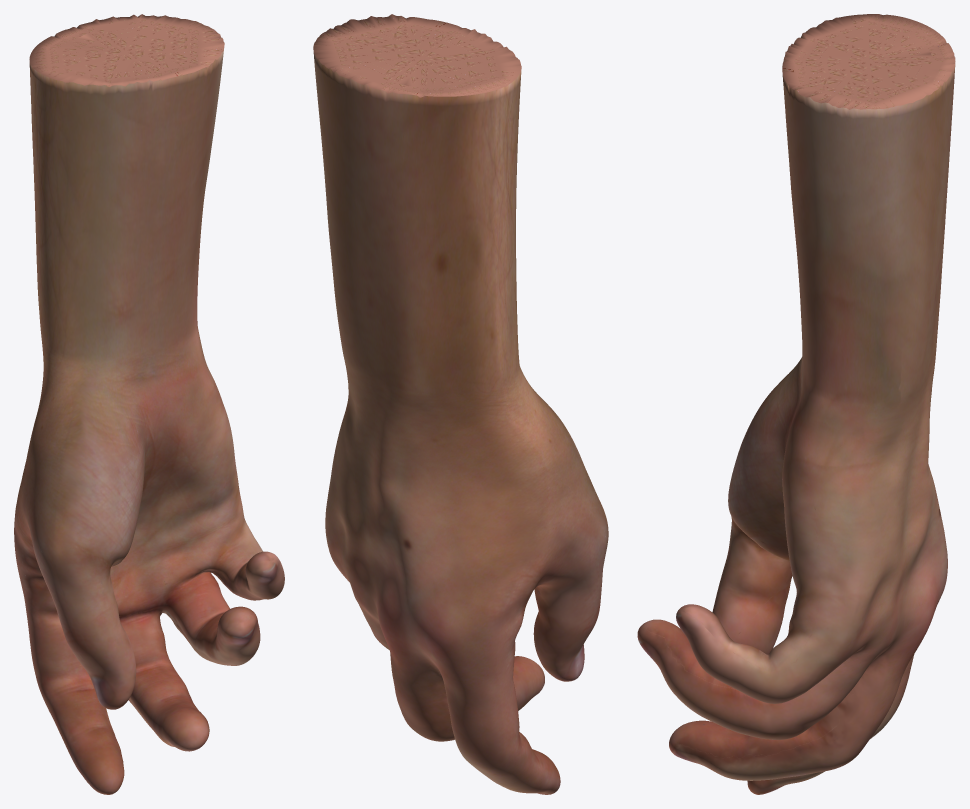
Rendered from libhand.glb.
The picture shows the model from 3 angles, left to right: view 1: azimuth 30°, elevation 25°; view 2: azimuth 150°, elevation 25°; view 3: azimuth 270°, elevation 25°; orthographic projection. The views are drawn at different scales.
Parts seen in each view (by area): view 1: LibHand_palm; view 2: LibHand_palm; view 3: LibHand_palm.
Boxes of the visible parts, x1,y1,x2,y2 form: LibHand_palm: (14, 14, 284, 794); LibHand_palm: (313, 14, 608, 794); LibHand_palm: (637, 14, 955, 794).
Size of the model in its own units: 1.65 by 4.74 by 1.77.
1 material, 1 textured.
